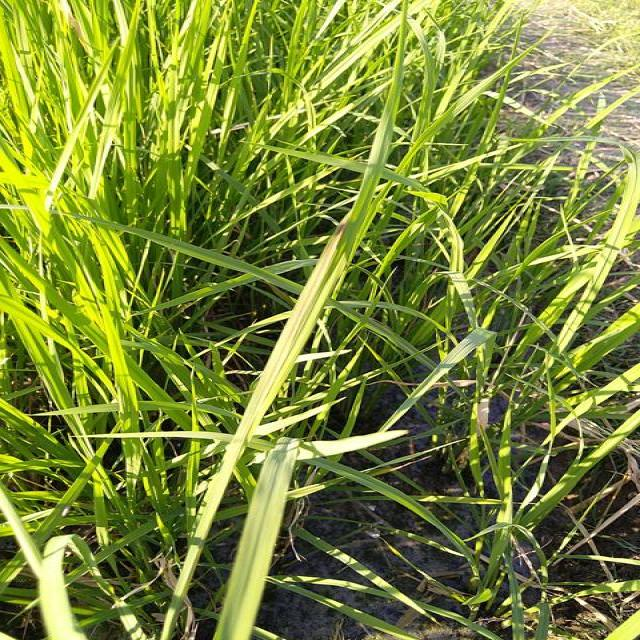Leaf Streak: (252, 216, 348, 402)
